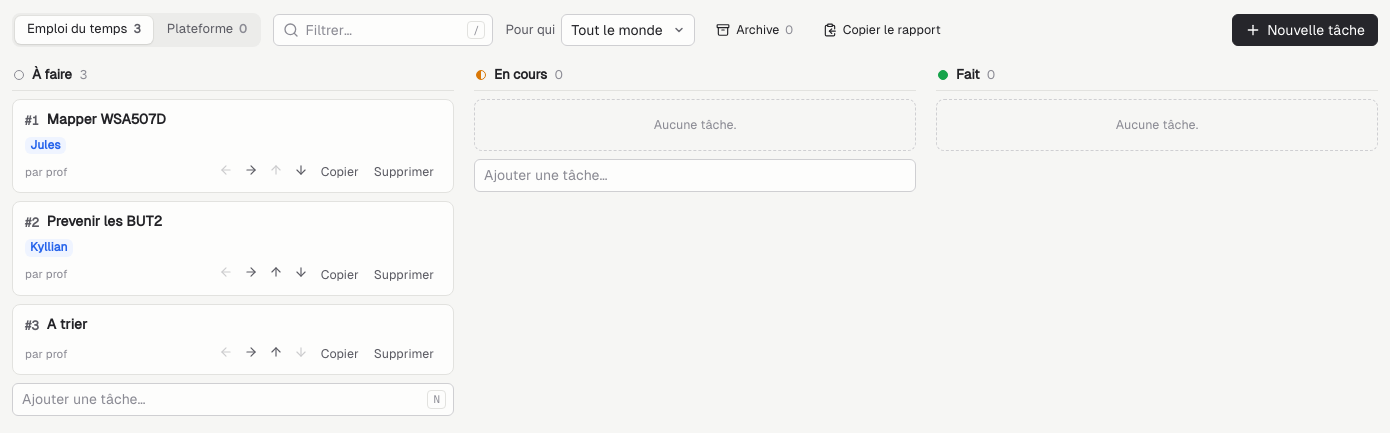
Test: KanbanView › should filter cards by who they concern
Expected: the button "Mapper WSA507D" is shown, [47,110,441,129]
Select "Kyllian" in the dropdown labelled "Pour qui" at (628, 30), box [561,14,695,46]
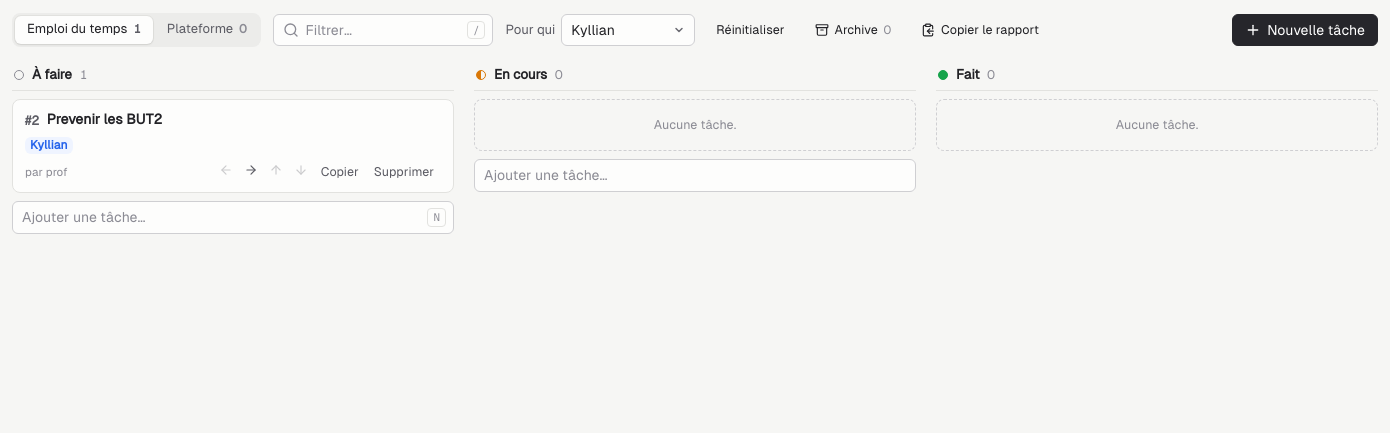
Expected: the button "Prevenir les BUT2" is shown, [47,110,441,129]
Expected: the button "Mapper WSA507D" is gone
Select "Non attribuées" in the dropdown labelled "Pour qui" at (628, 30), box [561,14,695,46]
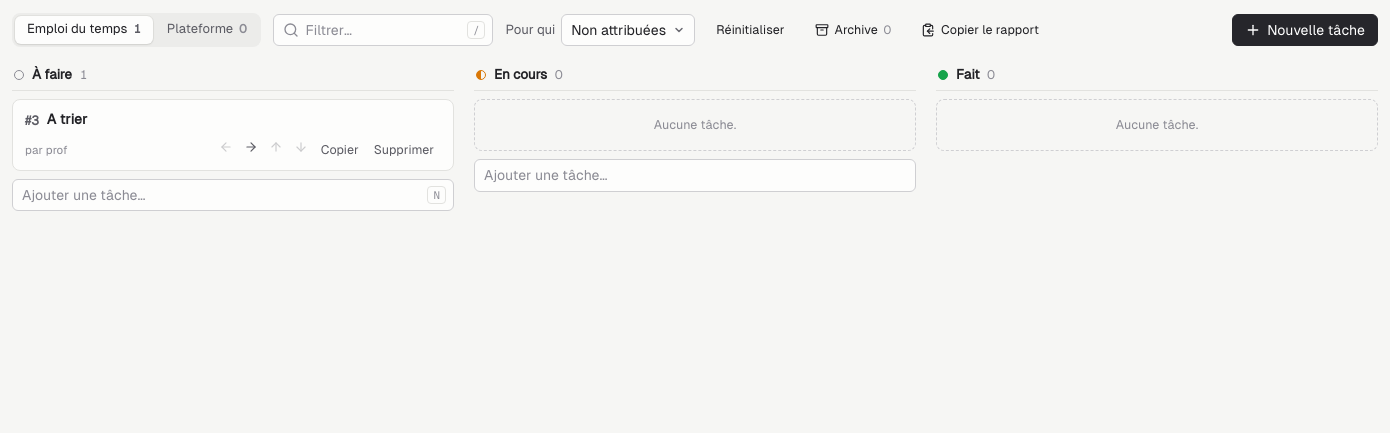
Expected: the button "A trier" is shown, [47,110,441,129]
Expected: the button "Prevenir les BUT2" is gone
